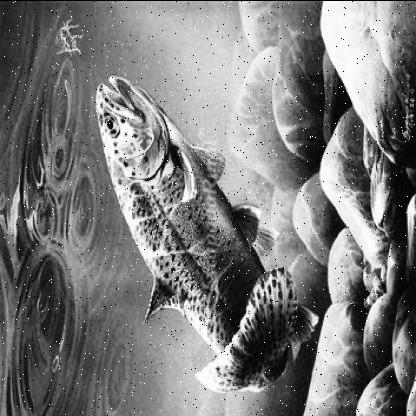fish: (93, 74, 318, 392)
